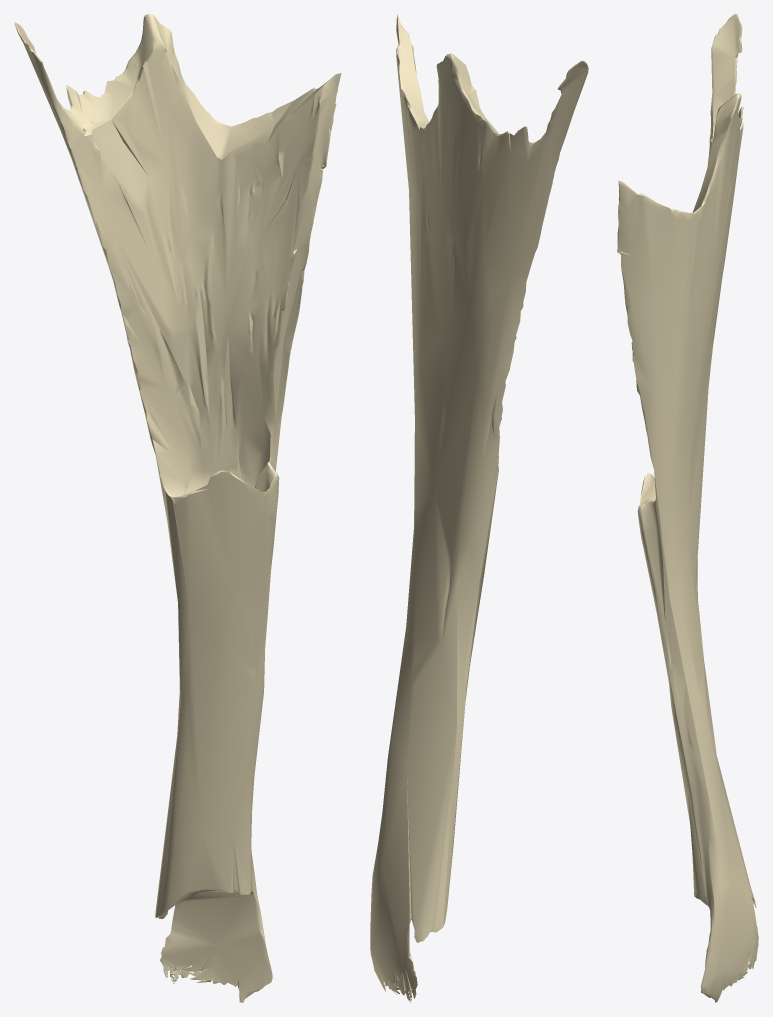
3 renders of one model, left to right at view 1: azimuth 30°, elevation 25°; view 2: azimuth 150°, elevation 25°; view 3: azimuth 270°, elevation 25°, orthographic. The views are drawn at different scales.
Visible parts, largest first — view 1: FJ1405; view 2: FJ1405; view 3: FJ1405.
Boxes of the visible parts, x1,y1,x2,y2 form: FJ1405: (14,14,341,1002); FJ1405: (370,14,588,1002); FJ1405: (617,14,758,1002).
Size of the model in its own units: 0.0566 by 0.2128 by 0.0305.
